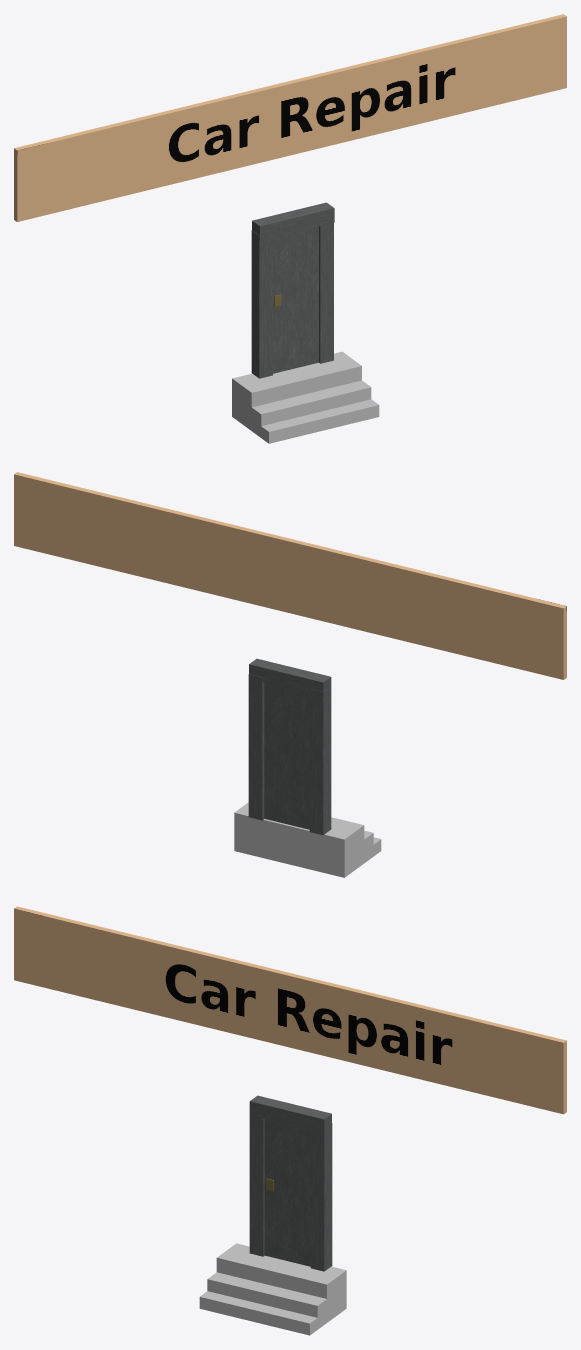
Rendered from sign3.obj.
3 renders of one model, top to bottom at view 1: azimuth 30°, elevation 25°; view 2: azimuth 150°, elevation 25°; view 3: azimuth 330°, elevation 25°, orthographic.
Parts seen in each view (by area): view 1: Cube.001_Cube.002_Material.001, Cube_Cube.003_None, porta_Mesh_Nuovo.1, Cubo_Mesh.005_Nuovo.1, Cubo_1_Mesh.004_Nuovo.1, Cubo_2_Mesh.003_Nuovo.1; view 2: Cube.001_Cube.002_Material.001, porta_Mesh_Nuovo.1, Cube_Cube.003_None, Cubo_Mesh.005_Nuovo.1, Cubo_1_Mesh.004_Nuovo.1, Cubo_2_Mesh.003_Nuovo.1; view 3: Cube.001_Cube.002_Material.001, Cube_Cube.003_None, porta_Mesh_Nuovo.1, Cubo_1_Mesh.004_Nuovo.1, Cubo_Mesh.005_Nuovo.1, Cubo_2_Mesh.003_Nuovo.1.
Boxes of the visible parts, <box> form: Cube.001_Cube.002_Material.001: <box>14,14,566,221</box>; Cube_Cube.003_None: <box>232,351,379,443</box>; porta_Mesh_Nuovo.1: <box>273,226,318,373</box>; Cubo_Mesh.005_Nuovo.1: <box>251,230,272,378</box>; Cubo_1_Mesh.004_Nuovo.1: <box>319,222,333,363</box>; Cubo_2_Mesh.003_Nuovo.1: <box>252,202,334,240</box>; Cube.001_Cube.002_Material.001: <box>14,472,566,679</box>; porta_Mesh_Nuovo.1: <box>264,682,309,829</box>; Cube_Cube.003_None: <box>234,802,381,877</box>; Cubo_Mesh.005_Nuovo.1: <box>309,687,331,835</box>; Cubo_1_Mesh.004_Nuovo.1: <box>248,674,264,820</box>; Cubo_2_Mesh.003_Nuovo.1: <box>249,658,331,693</box>; Cube.001_Cube.002_Material.001: <box>14,906,566,1114</box>; Cube_Cube.003_None: <box>199,1243,346,1335</box>; porta_Mesh_Nuovo.1: <box>264,1119,310,1266</box>; Cubo_1_Mesh.004_Nuovo.1: <box>310,1123,332,1271</box>; Cubo_Mesh.005_Nuovo.1: <box>249,1115,264,1256</box>; Cubo_2_Mesh.003_Nuovo.1: <box>249,1095,331,1133</box>.
Size of the model in its own units: 8.04 by 4.51 by 0.9547.
Materials: 4 (2 with a texture image).
